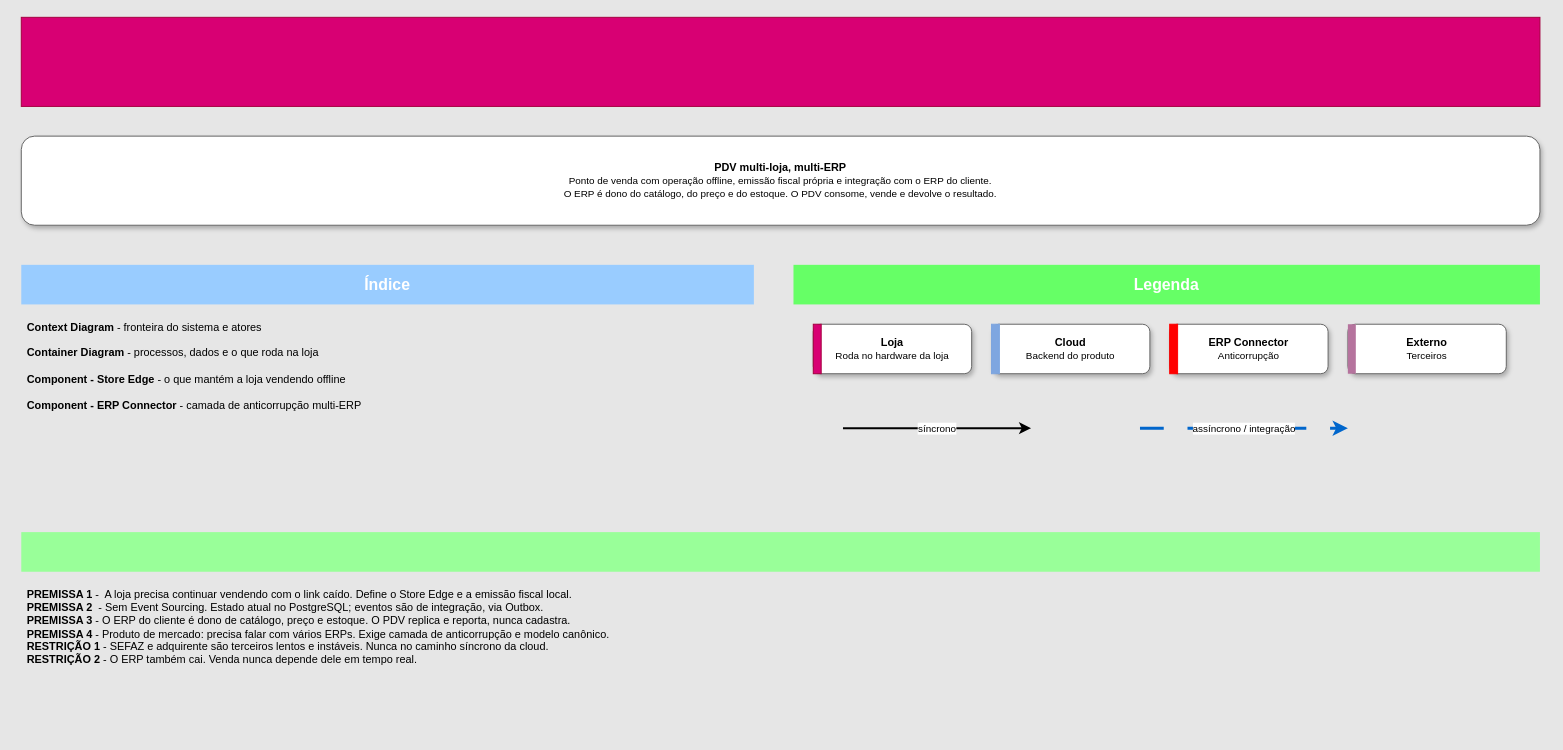
The diagram is 1563 pixels wide and 750 high, and some of its shapes have lost their labels. The centre of each missing label's shape, as x and y in pixels:
"Premissas" belongs at pixel 780 551.
"RETAIL FLOW PDV offline conectado ao ERP Arquitetura TO BE" belongs at pixel 780 61.
